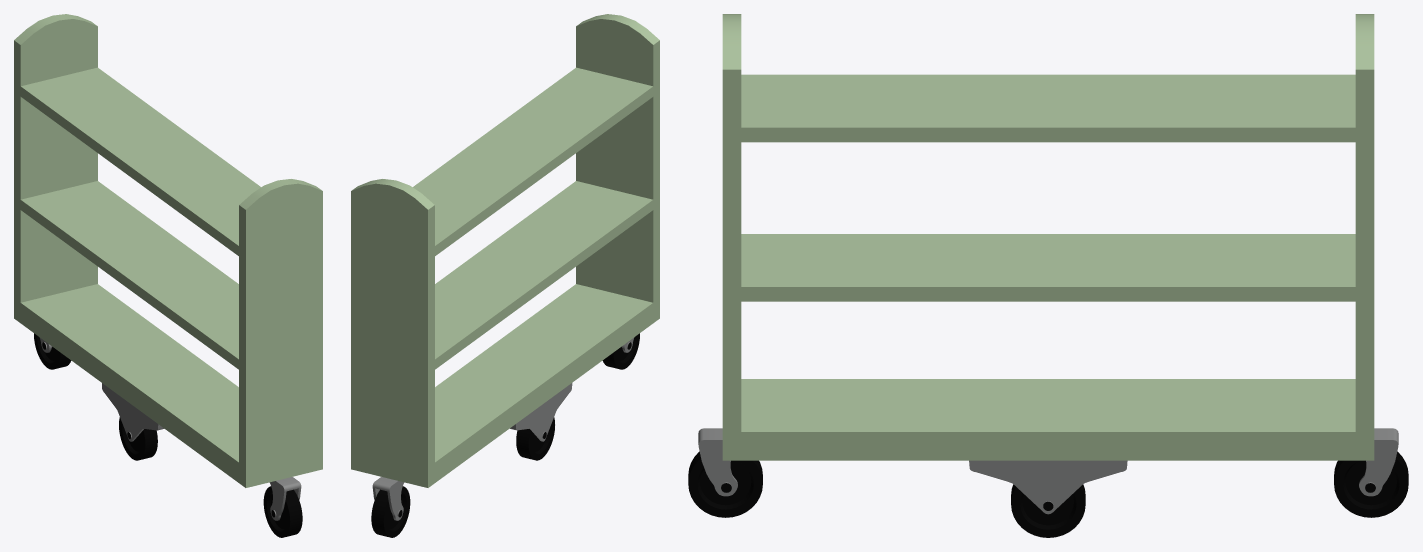
The model's file is Library Cart.fbx.
The picture shows the model from 3 angles, left to right: view 1: azimuth 30°, elevation 25°; view 2: azimuth 150°, elevation 25°; view 3: azimuth 270°, elevation 25°; orthographic projection. The views are drawn at different scales.
Visible parts, largest first — view 1: Cart, Wheels, Wheel Handle; view 2: Cart, Wheels, Wheel Handle; view 3: Cart, Wheels, Wheel Handle.
Boxes of the visible parts, <box> form: Cart: <box>14,14,322,487</box>; Wheels: <box>34,333,302,537</box>; Wheel Handle: <box>39,337,301,520</box>; Cart: <box>351,14,659,487</box>; Wheels: <box>371,333,639,537</box>; Wheel Handle: <box>372,337,634,520</box>; Cart: <box>722,14,1374,460</box>; Wheels: <box>688,451,1408,537</box>; Wheel Handle: <box>698,428,1398,514</box>.
Bounding box in the file's own units: 118 × 502 × 666.
